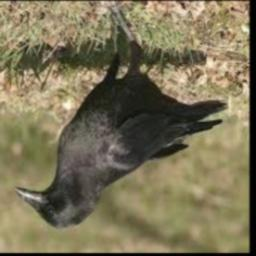Crow: (15, 1, 226, 230)
